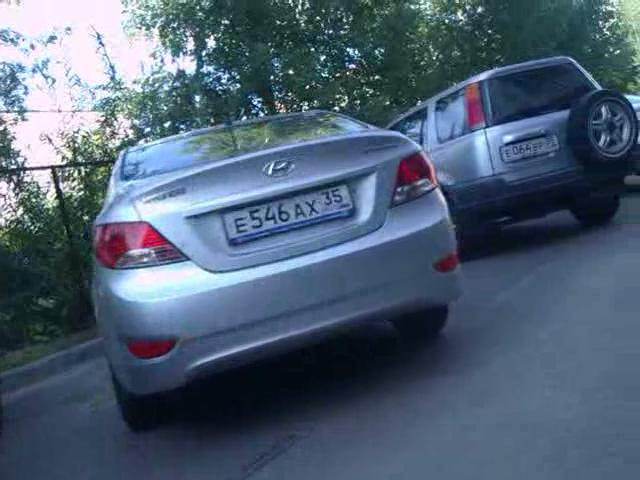car license plate: (216, 181, 359, 249), (500, 135, 559, 167)
